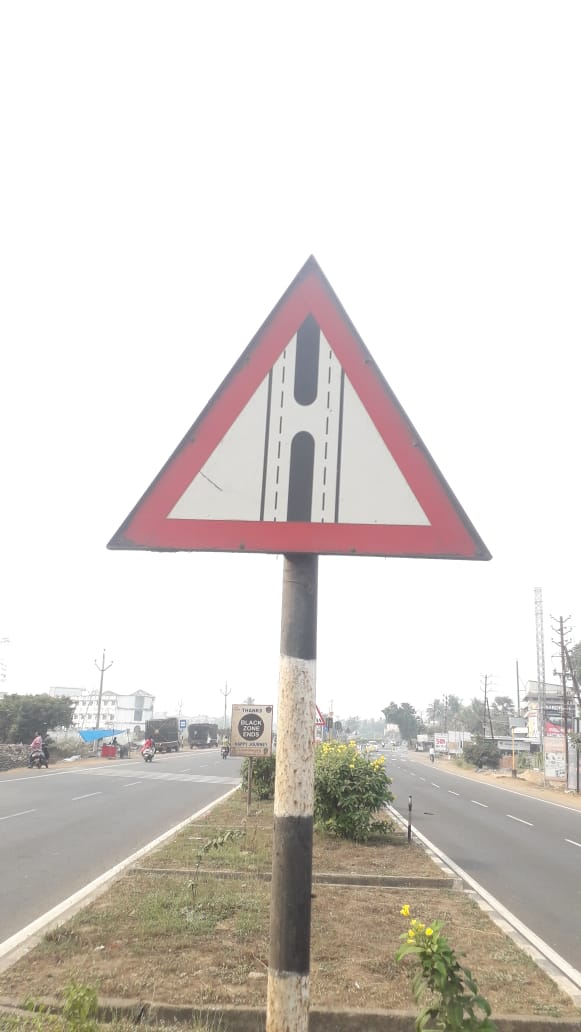highway go straight: (92, 229, 507, 588)
